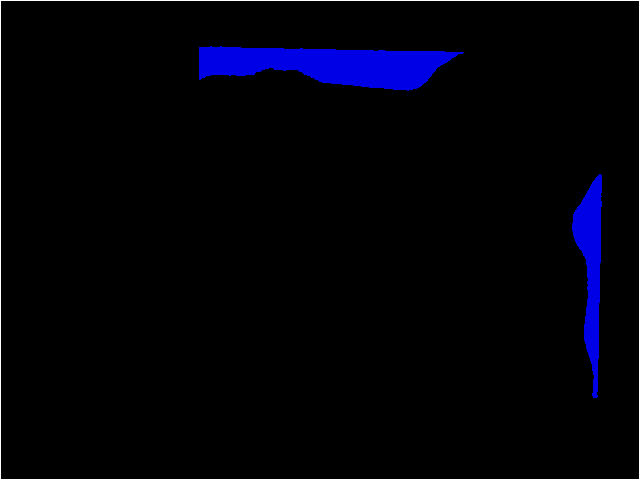defect: (198, 45, 465, 93), (572, 174, 603, 399)
